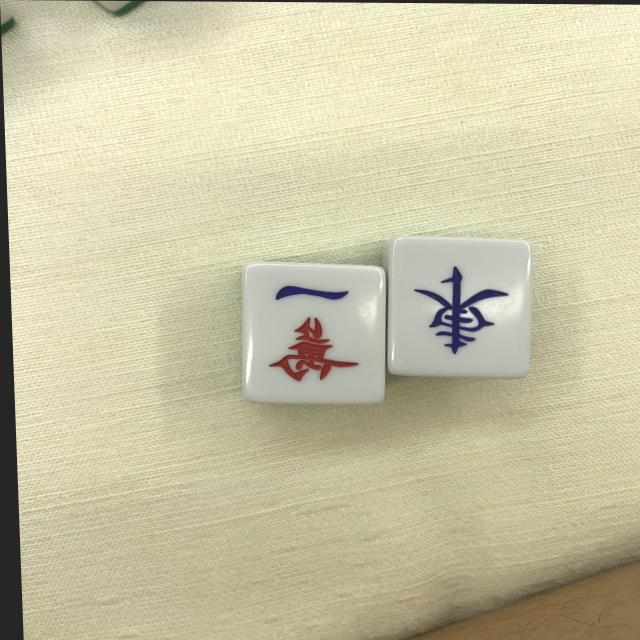east: (385, 237, 533, 379)
m1: (241, 263, 387, 406)
